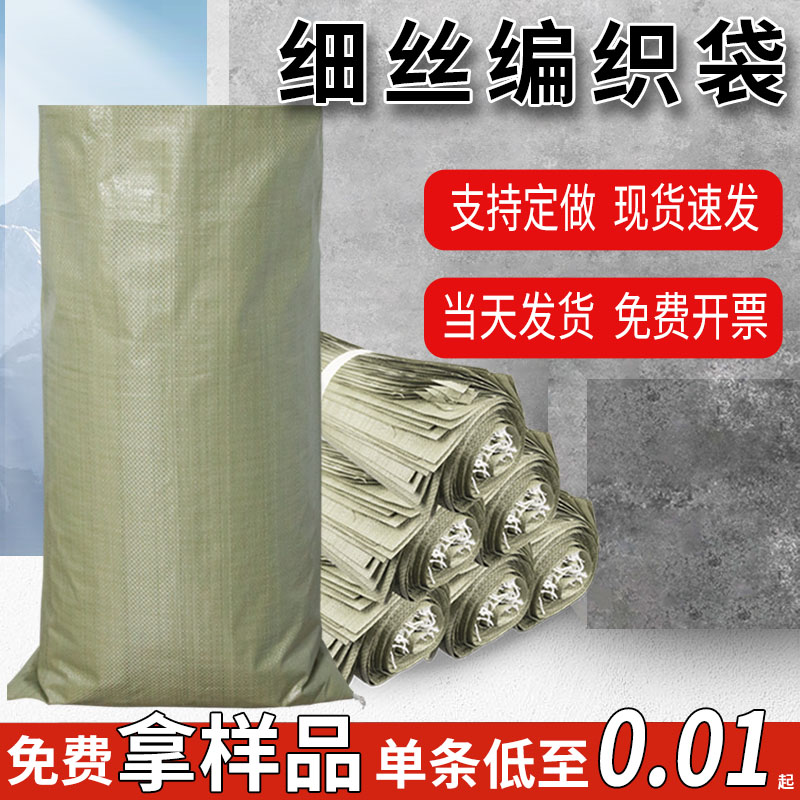塑料袋: (7, 107, 353, 706)
